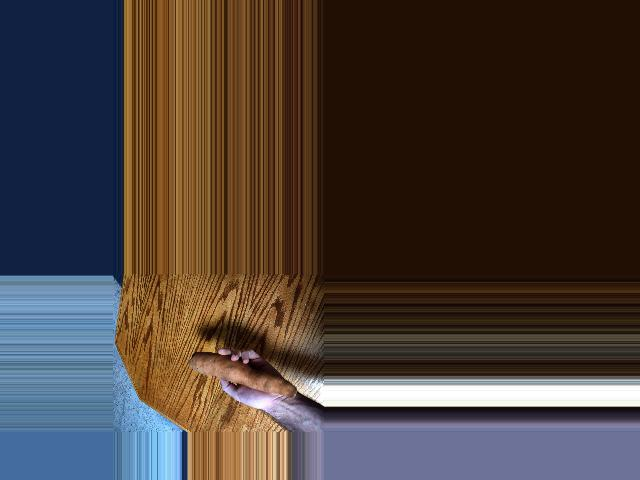sweet_potato: (173, 346, 284, 391)
